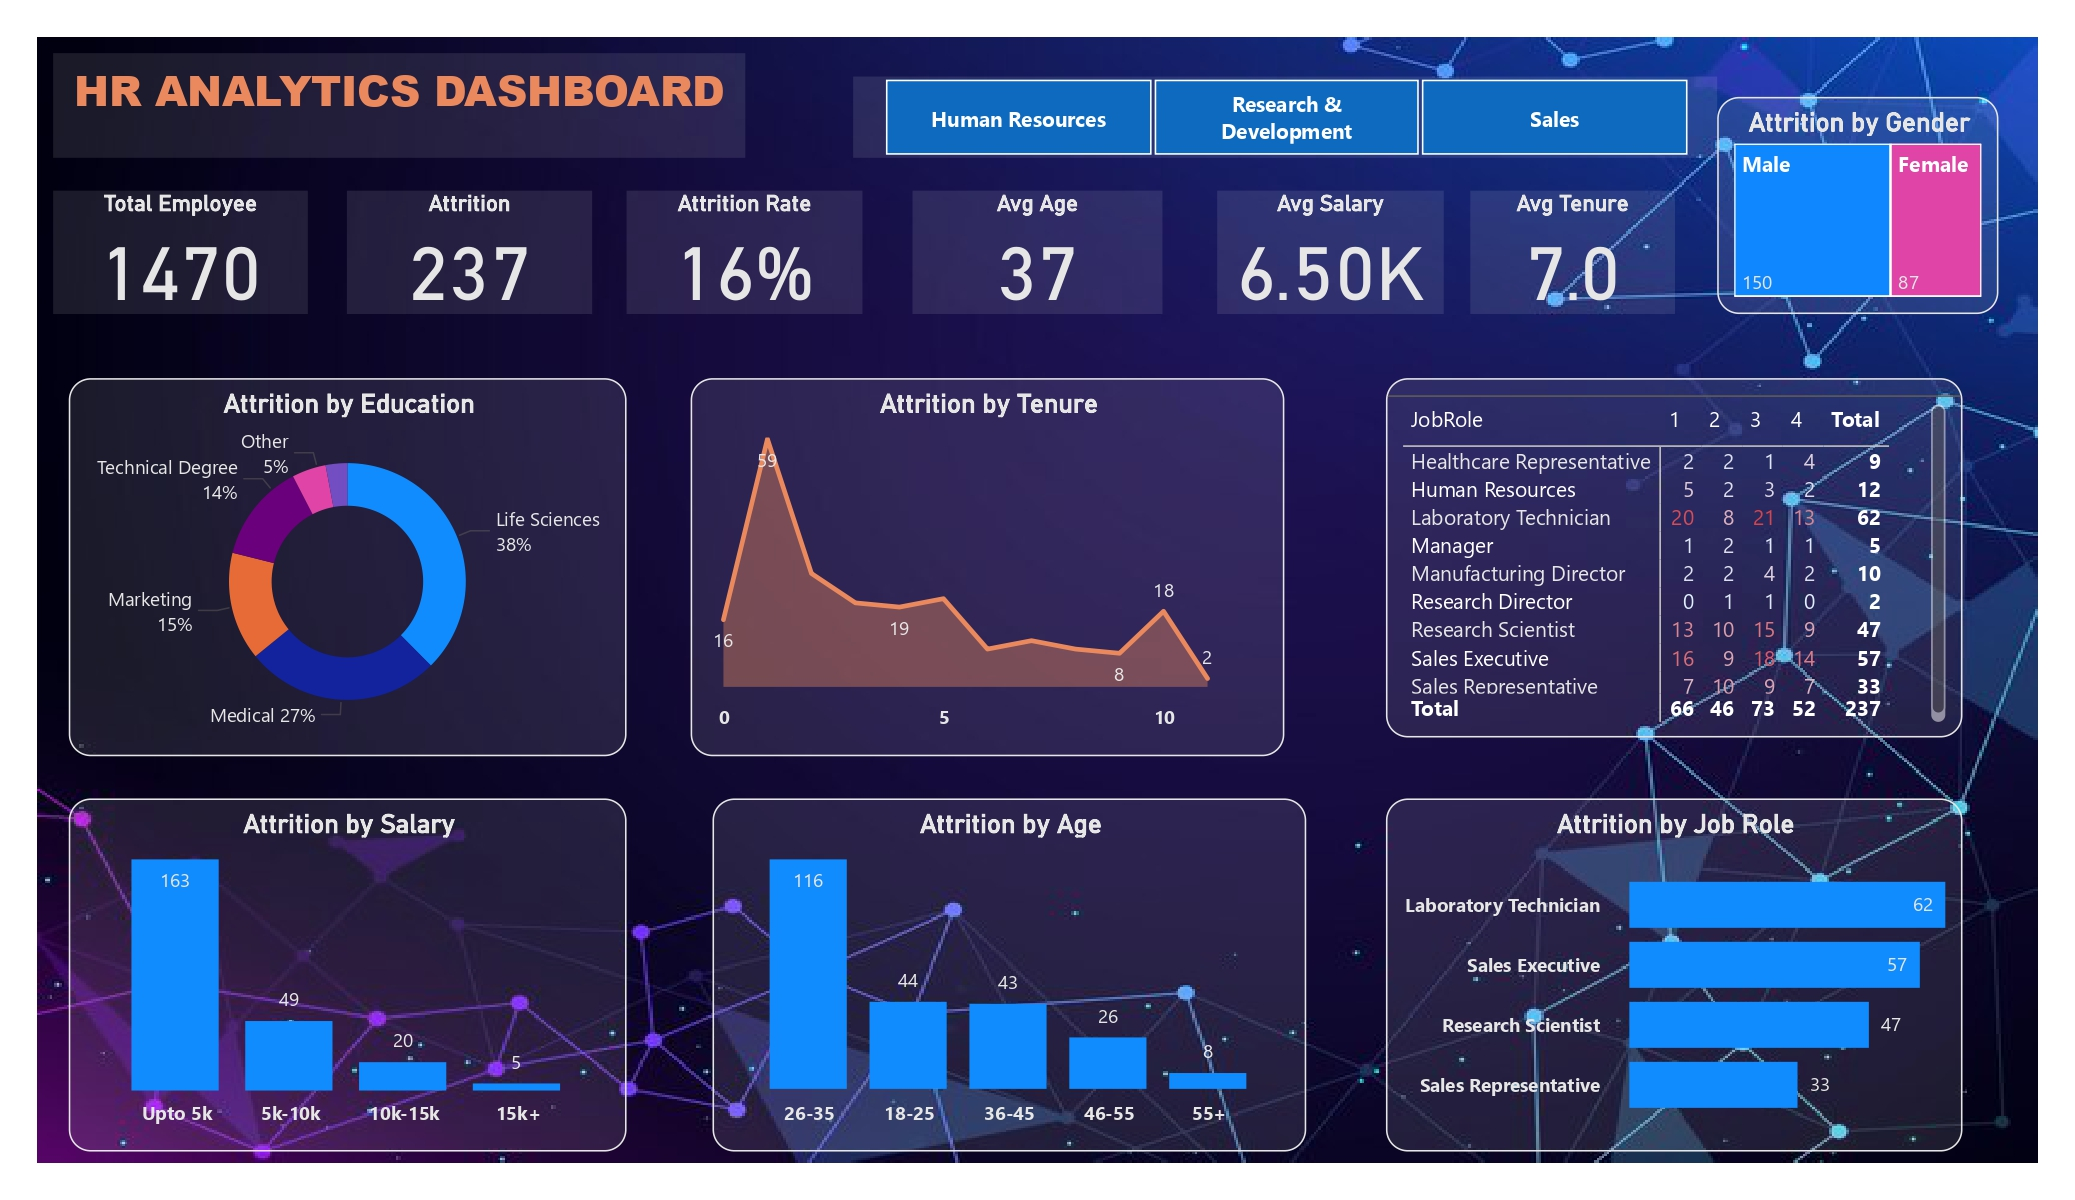

The page's visual inventory and layout, read from the dashboard file:
{"tool":"powerbi","page":{"name":"Page 1","canvas":[1280,720],"ordinal":0},"visuals":[{"type":"card","title":"Total Employee","fields":{"Values":["Count(HR_Analytics.EmpID)"]},"box":[10,98.3,163.3,78.3],"z":0},{"type":"card","title":"Attrition","fields":{"Values":["Sum(HR_Analytics.AttritionCount)"]},"box":[198.3,98.3,156.7,78.3],"z":1000},{"type":"card","title":"Attrition Rate","fields":{"Values":["HR_Analytics.AttritionRate"]},"box":[376.7,98.3,151.7,78.3],"z":2000},{"type":"card","title":"Avg Age","fields":{"Values":["Avg(HR_Analytics.Age)"]},"box":[560,98.3,160,78.3],"z":3000},{"type":"card","title":"Avg Salary","fields":{"Values":["Avg(HR_Analytics.MonthlyIncome)"]},"box":[755,98.3,145,78.3],"z":4000},{"type":"card","title":"Avg Tenure","fields":{"Values":["Avg(HR_Analytics.YearsAtCompany)"]},"box":[916.7,98.3,131.7,78.3],"z":5000},{"type":"donutChart","title":"Attrition by Education","fields":{"Category":["HR_Analytics.EducationField"],"Y":["Sum(HR_Analytics.AttritionCount)"]},"box":[20,218.3,356.7,241.7],"z":6000},{"type":"columnChart","title":"Attrition by Age","fields":{"Category":["HR_Analytics.AgeGroup"],"Y":["Sum(HR_Analytics.AttritionCount)"]},"box":[431.7,486.7,380,226.7],"z":7000},{"type":"pivotTable","fields":{"Rows":["HR_Analytics.JobRole"],"Columns":["HR_Analytics.JobSatisfaction"],"Values":["Sum(HR_Analytics.AttritionCount)"]},"box":[863.3,218.3,368.3,230],"z":8000},{"type":"columnChart","title":"Attrition by Salary","fields":{"Category":["HR_Analytics.SalarySlab"],"Y":["Sum(HR_Analytics.AttritionCount)"]},"box":[20,486.7,356.7,226.7],"z":9000},{"type":"barChart","title":"Attrition by Job Role","fields":{"Category":["HR_Analytics.JobRole"],"Y":["Sum(HR_Analytics.AttritionCount)"]},"box":[863.3,486.7,368.3,226.7],"z":10000},{"type":"areaChart","title":"Attrition by Tenure","fields":{"Category":["HR_Analytics.YearsAtCompany"],"Y":["Sum(HR_Analytics.AttritionCount)"]},"box":[418.3,218.3,380,241.7],"z":11000},{"type":"treemap","title":"Attrition by Gender","fields":{"Values":["Sum(HR_Analytics.AttritionCount)"],"Group":["HR_Analytics.Gender"]},"box":[1075,38.3,180,138.3],"z":12000},{"type":"textbox","box":[10,10,443.3,66.7],"z":13000},{"type":"slicer","fields":{"Values":["HR_Analytics.Department"]},"box":[521.7,25,553.3,51.7],"z":14000}]}

Visuals, with their boxes in screenshot pixels (x1, y1, x2, y2):
"Total Employee" card: left=53, top=191, right=308, bottom=313
"Attrition" card: left=347, top=191, right=592, bottom=313
"Attrition Rate" card: left=626, top=191, right=863, bottom=313
"Avg Age" card: left=912, top=191, right=1162, bottom=313
"Avg Salary" card: left=1217, top=191, right=1444, bottom=313
"Avg Tenure" card: left=1470, top=191, right=1676, bottom=313
"Attrition by Education" donutChart: left=69, top=379, right=626, bottom=756
"Attrition by Age" columnChart: left=712, top=798, right=1306, bottom=1152
pivotTable - HR_Analytics.JobRole x HR_Analytics.JobSatisfaction: left=1386, top=379, right=1962, bottom=738
"Attrition by Salary" columnChart: left=69, top=798, right=626, bottom=1152
"Attrition by Job Role" barChart: left=1386, top=798, right=1962, bottom=1152
"Attrition by Tenure" areaChart: left=691, top=379, right=1285, bottom=756
"Attrition by Gender" treemap: left=1717, top=97, right=1998, bottom=313
textbox: left=53, top=53, right=746, bottom=157
slicer - HR_Analytics.Department: left=853, top=77, right=1717, bottom=157
